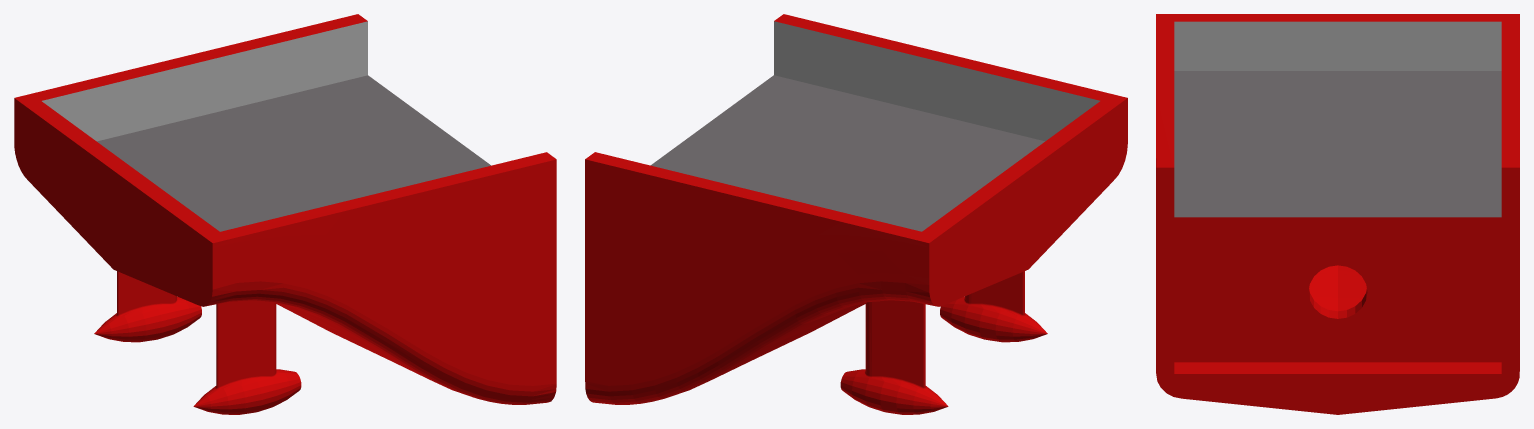
File: sternAzimuth.dae
3 views of the same model, side by side, from view 1: azimuth 30°, elevation 25°; view 2: azimuth 150°, elevation 25°; view 3: azimuth 270°, elevation 25° (orthographic). The views are drawn at different scales.
Parts seen in each view (by area): view 1: Stern_azimuth; view 2: Stern_azimuth; view 3: Stern_azimuth.
Part boxes in pixels (bbox=[...]): Stern_azimuth: bbox=[14, 14, 556, 414]; Stern_azimuth: bbox=[585, 14, 1127, 414]; Stern_azimuth: bbox=[1156, 14, 1519, 414].
Bounding box in the file's own units: 40 × 40.01 × 30.
